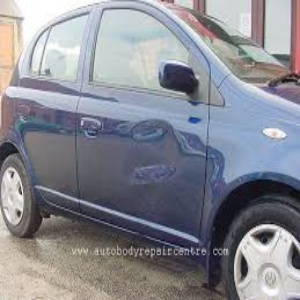door: (111, 114, 231, 204)
